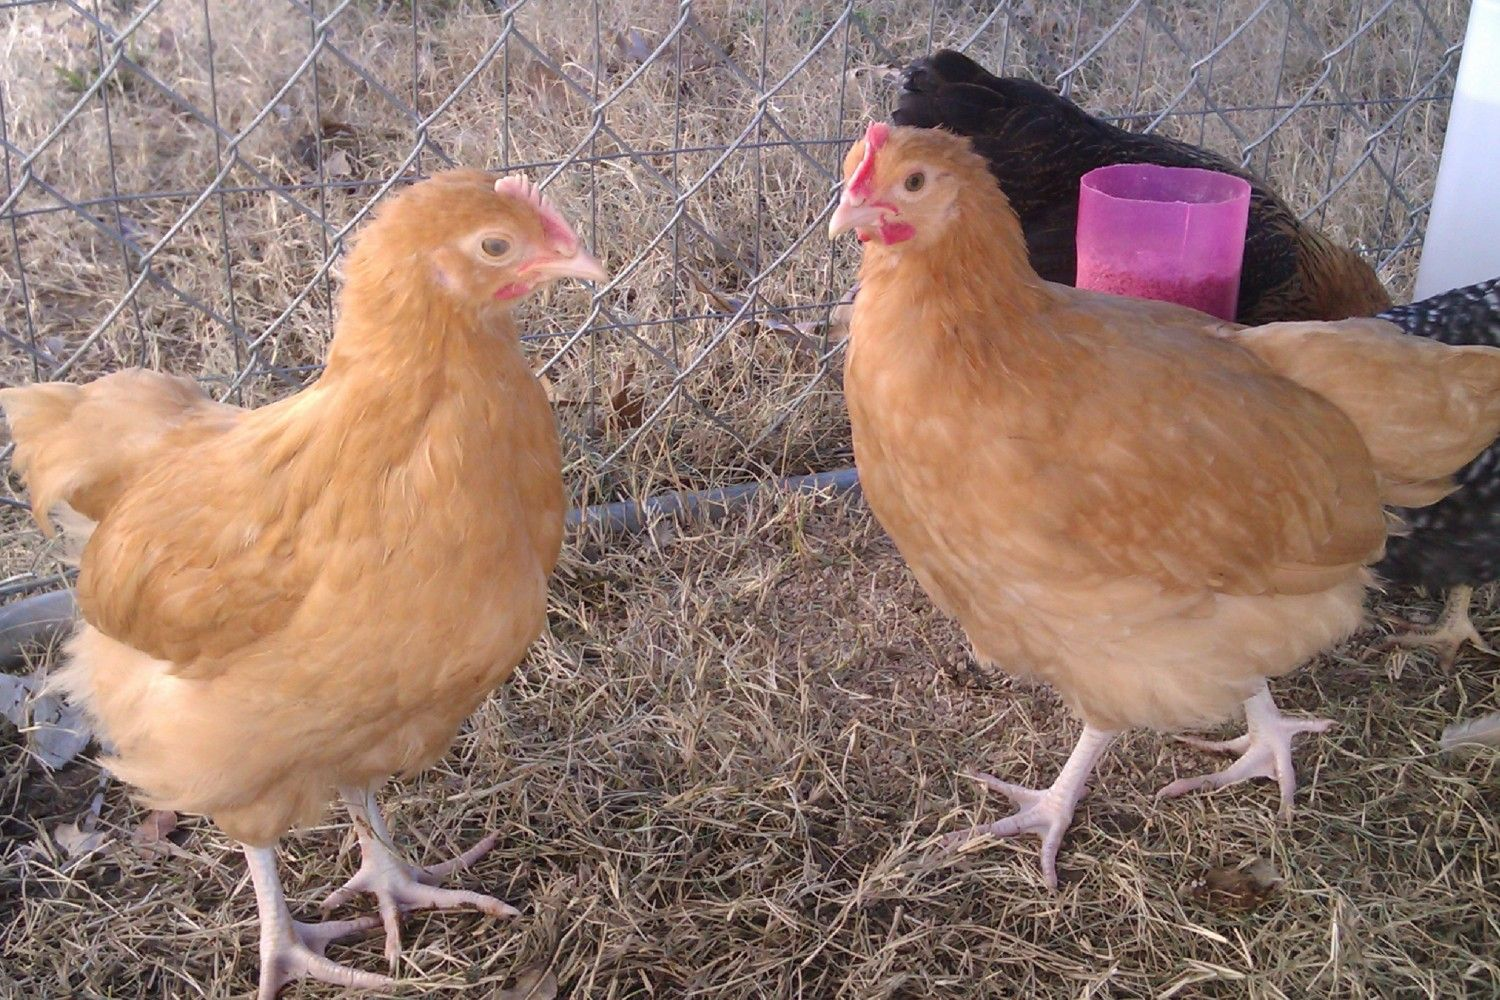buff: (133, 158, 625, 725), (798, 129, 1233, 725)
